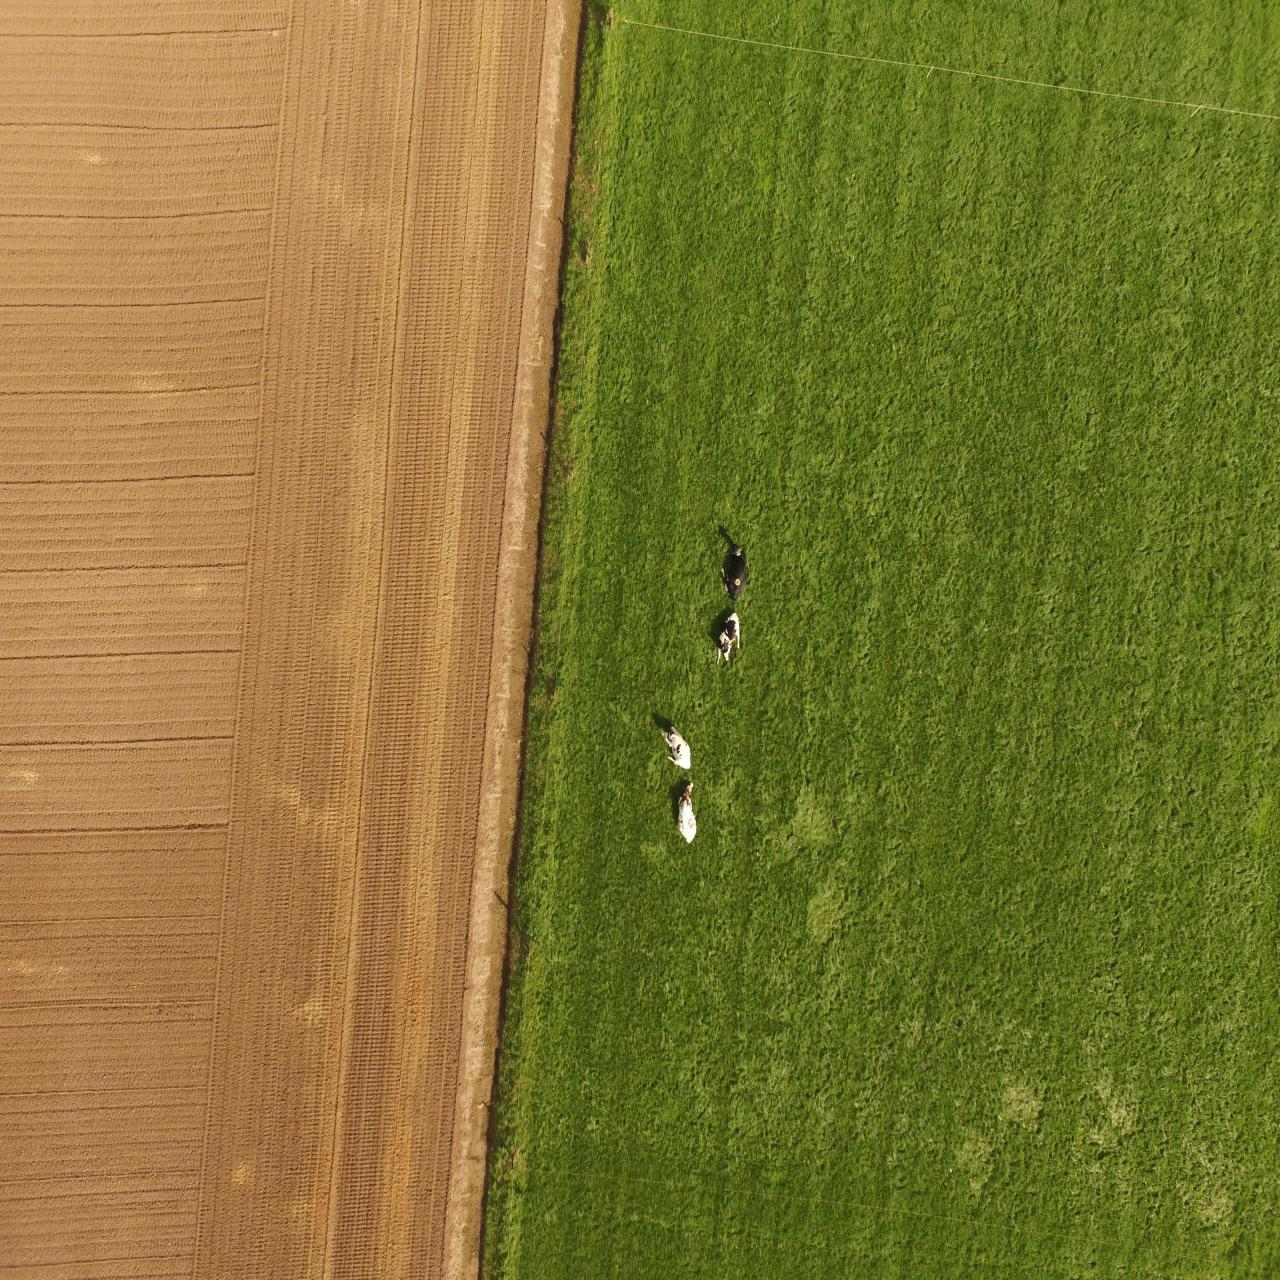cow: (720, 541, 749, 602), (714, 610, 741, 668), (660, 725, 693, 771), (675, 780, 698, 845)
